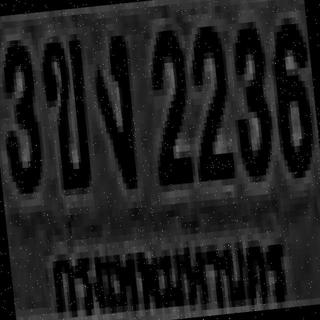A02: (37, 31, 92, 188)
A07: (88, 29, 137, 185)
N02: (182, 19, 235, 175), (143, 23, 193, 179)
N03: (224, 15, 274, 171), (0, 33, 41, 188)
N06: (267, 17, 316, 173)
P04: (46, 216, 294, 320)
